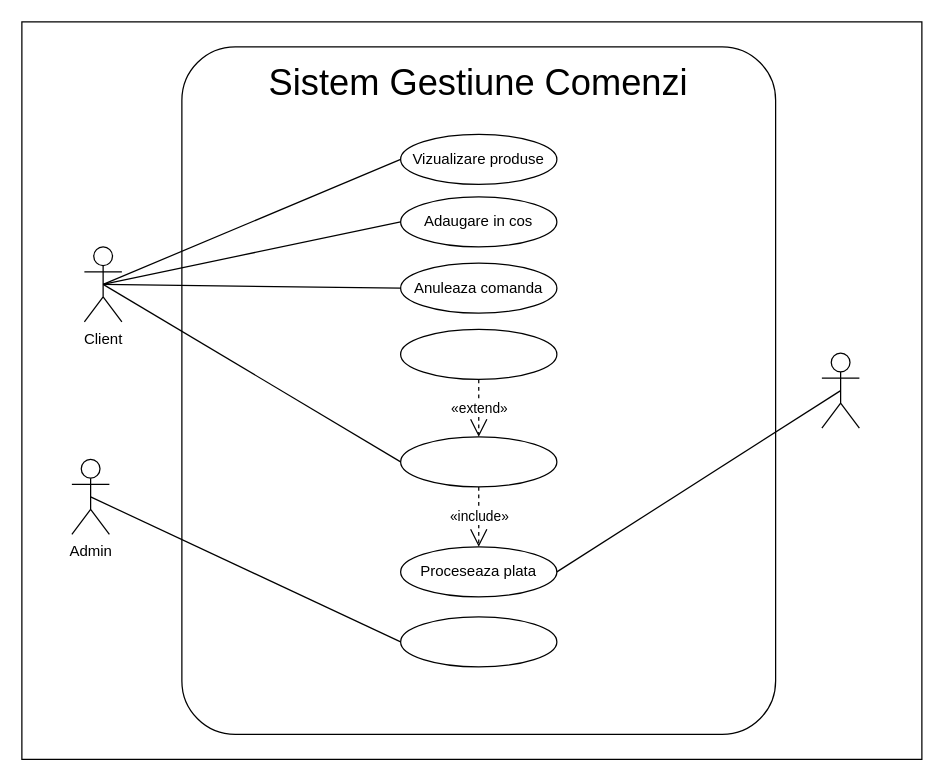
The diagram is 944 pixels wide and 781 high, and some of its shapes have lost their labels. The box of each missing label's shape, as (x1, y1, x2, y2) in pixels:
Aplica reducere: (399, 328, 557, 379)
Gestioneaza produse: (399, 616, 557, 667)
Plaseaza comanda: (399, 436, 557, 487)
Sistem de plata: (821, 352, 859, 428)
